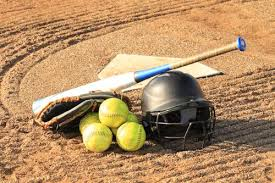baseball bat: (32, 37, 247, 127)
